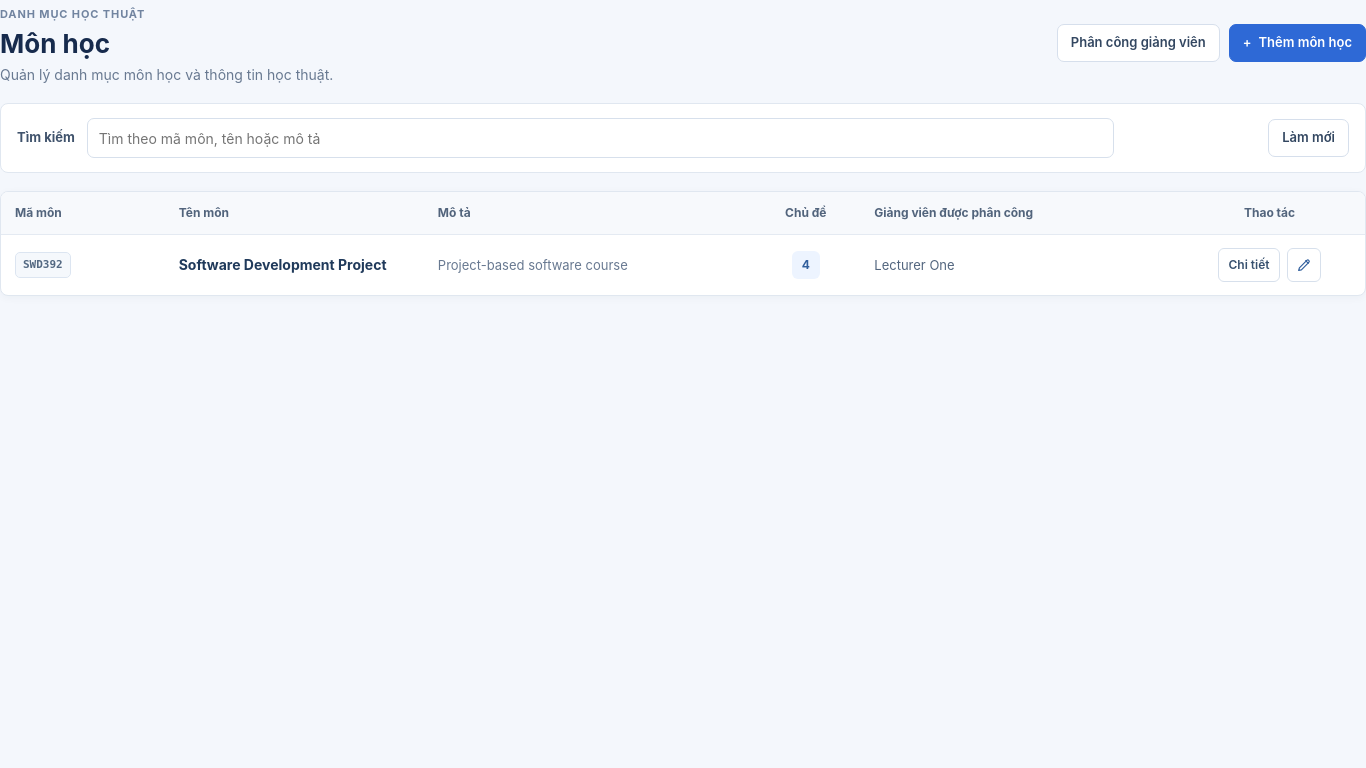
Test: SubjectsPage › loads real subject metadata and opens details by the returned UUID
expect the text "SWD392" is shown: met, box [15,252,71,278]
expect the text "Project-based software course" is shown: met, box [424,235,751,295]
Click the button "Software Development Project": [283, 265] box [179,254,387,275]
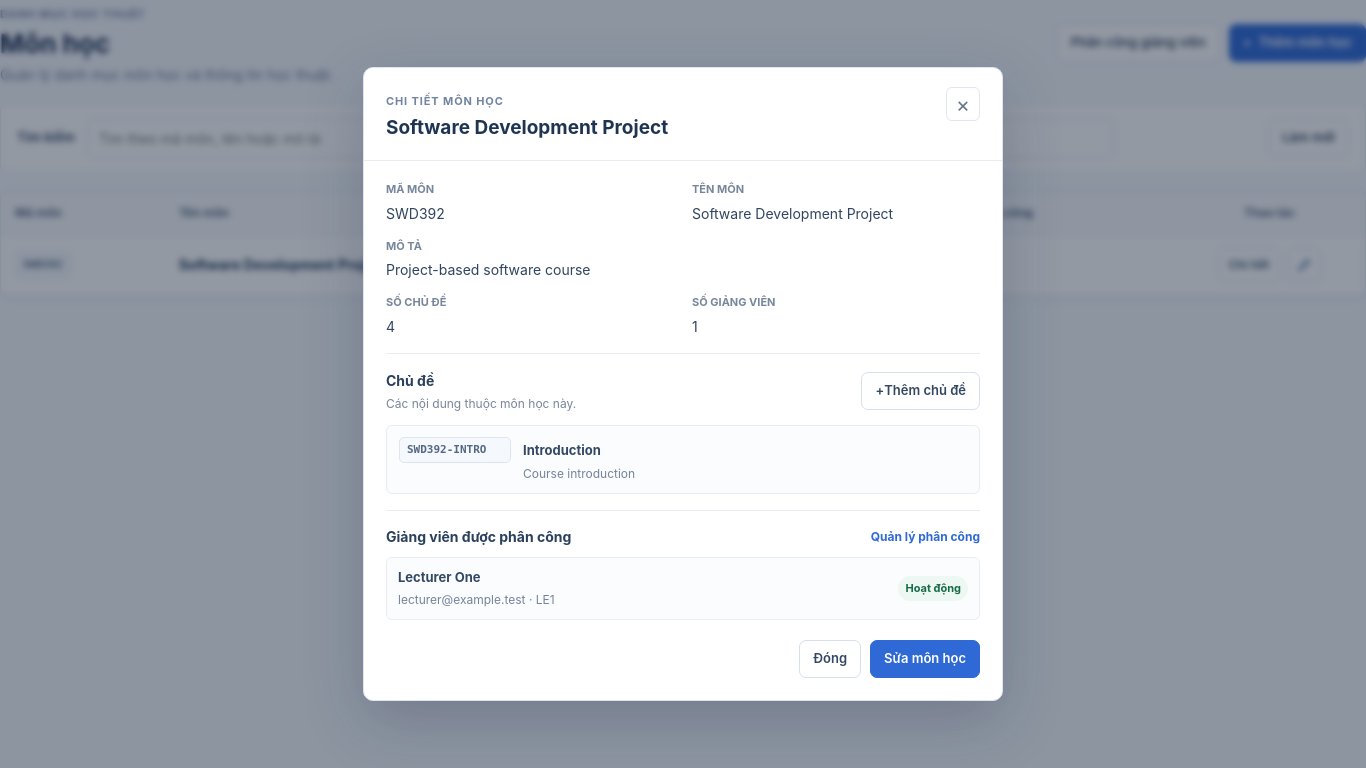
expect the heading "Software Development Project" is shown: met, box [386,116,668,141]
expect the text "lecturer@example.test · LE1" is shown: met, box [398,590,555,608]
expect the text "SWD392-INTRO" is shown: met, box [399,437,511,463]
